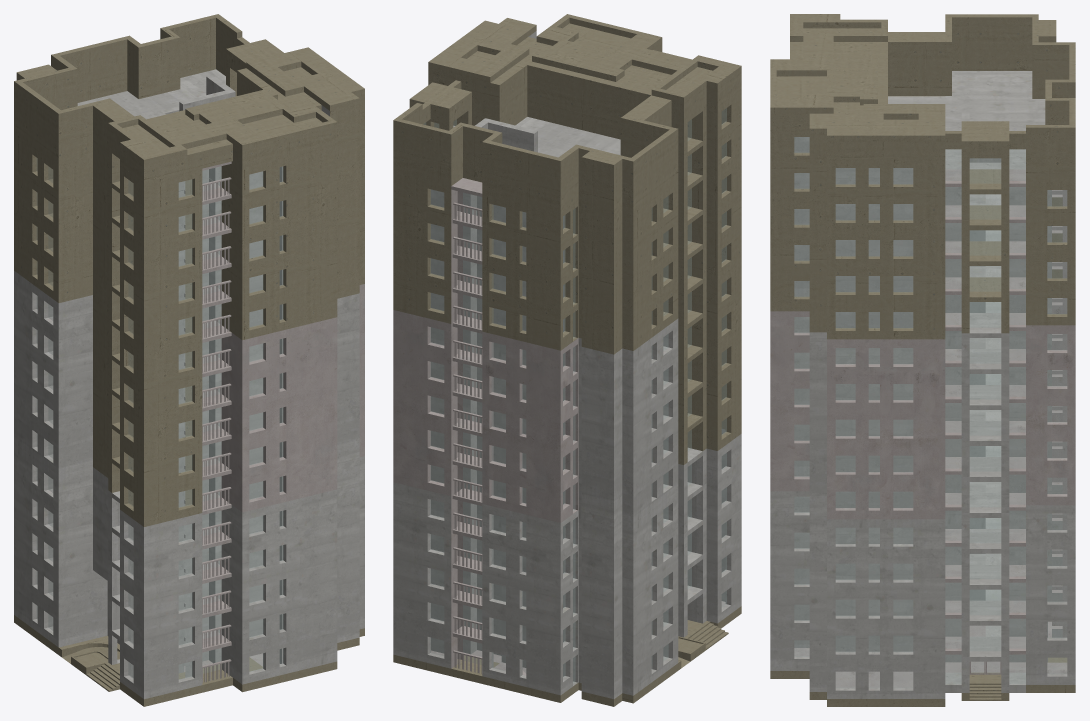
The model's file is Korean_Apartment.glb.
The picture shows the model from 3 angles, left to right: view 1: azimuth 30°, elevation 25°; view 2: azimuth 150°, elevation 25°; view 3: azimuth 270°, elevation 25°; orthographic projection. The views are drawn at different scales.
Parts seen in each view (by area): view 1: Korean_Apartment; view 2: Korean_Apartment; view 3: Korean_Apartment.
Part boxes in pixels (x1,y1,x2,y2): Korean_Apartment: [14, 14, 364, 706]; Korean_Apartment: [393, 14, 741, 706]; Korean_Apartment: [770, 14, 1075, 706].
Size of the model in its own units: 4.55 by 9.53 by 4.62.
4 materials, 3 textured.
